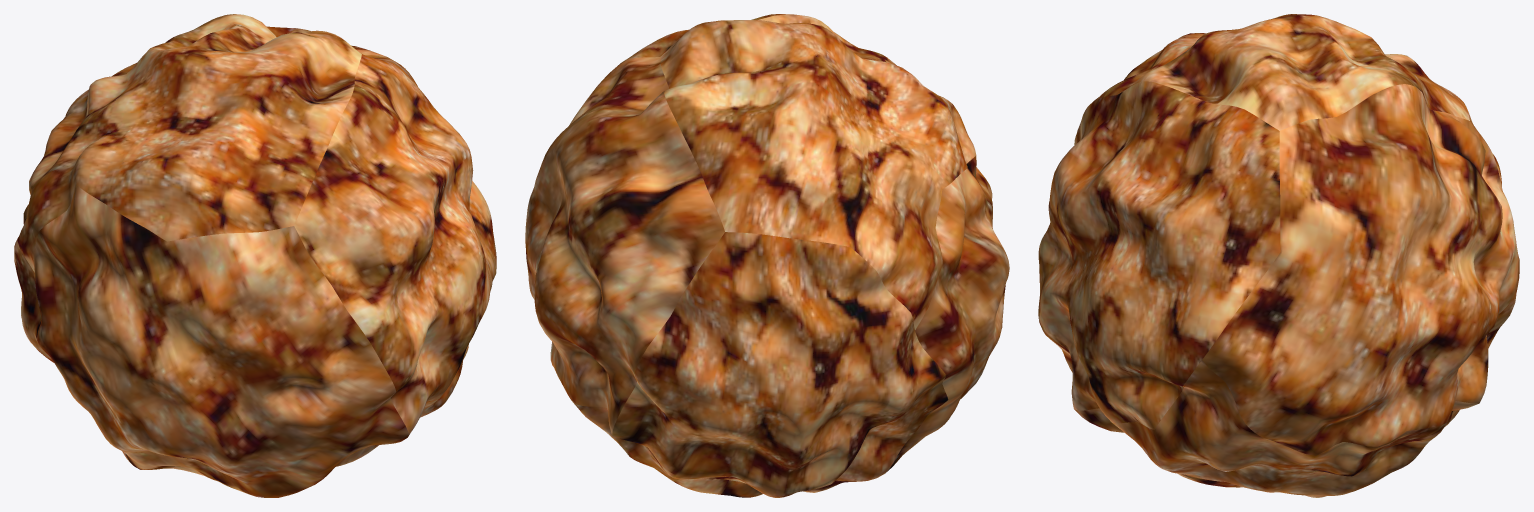
File: meatball-v3.fbx
The picture shows the model from 3 angles, left to right: view 1: azimuth 30°, elevation 25°; view 2: azimuth 150°, elevation 25°; view 3: azimuth 270°, elevation 25°; orthographic projection. The views are drawn at different scales.
Parts seen in each view (by area): view 1: meatball; view 2: meatball; view 3: meatball.
Part boxes in pixels (x1,y1,x2,y2): meatball: (14,14,496,497); meatball: (525,14,1009,497); meatball: (1038,14,1519,497).
Size of the model in its own units: 214 by 217 by 212.
